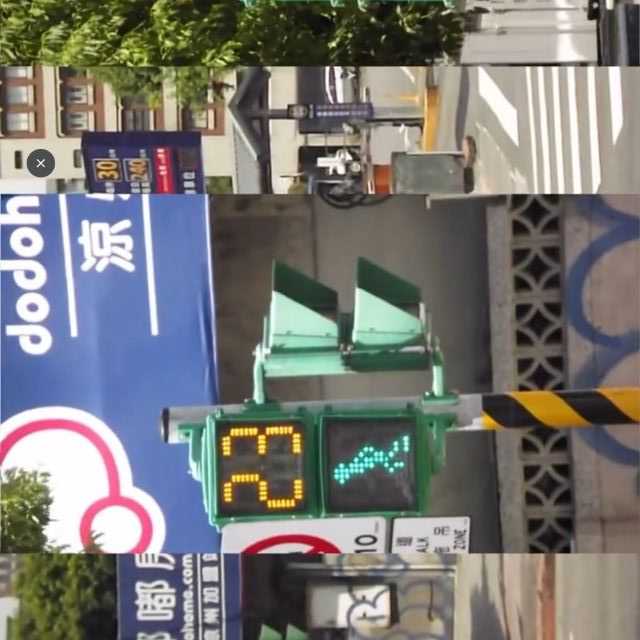green_light: (209, 414, 429, 516)
